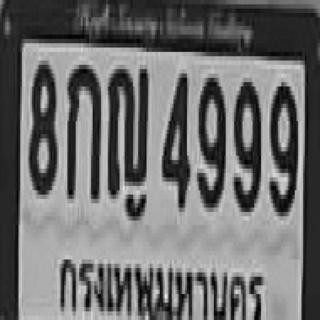A01: (66, 60, 99, 194)
A13: (106, 60, 146, 199)
N04: (160, 69, 189, 208)
N08: (27, 56, 56, 190)
N09: (268, 78, 296, 212), (195, 74, 224, 203), (232, 78, 260, 208)
P04: (56, 240, 271, 320)
